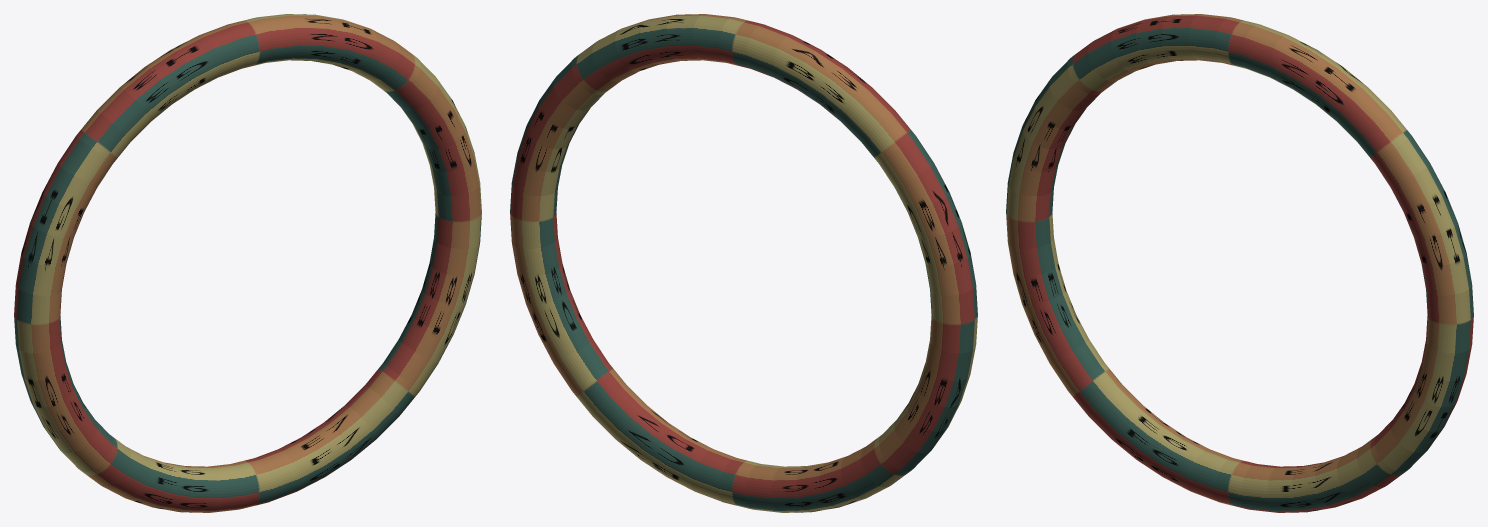
Rendered from texture_torus_R29_r3.glb.
3 views of the same model, side by side, from view 1: azimuth 30°, elevation 25°; view 2: azimuth 150°, elevation 25°; view 3: azimuth 330°, elevation 25° (orthographic).
Visible parts, largest first — view 1: world; view 2: world; view 3: world.
Part boxes in pixels (box(x1,y1,x2,y2)): world: box(14, 14, 481, 512); world: box(510, 14, 977, 512); world: box(1006, 14, 1473, 512).
Size of the model in its own units: 32.13 by 32.07 by 2.79.
Materials: 1 (1 with a texture image).
